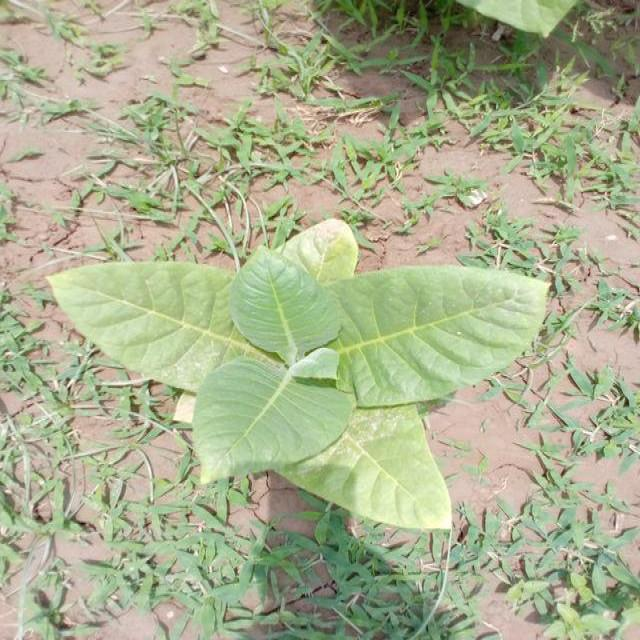crop: (65, 240, 552, 529)
